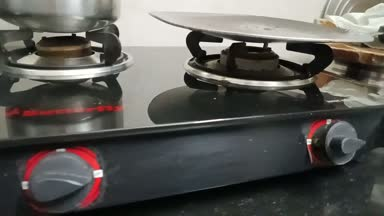flame_gas_off: (206, 38, 373, 169), (4, 28, 111, 212)
